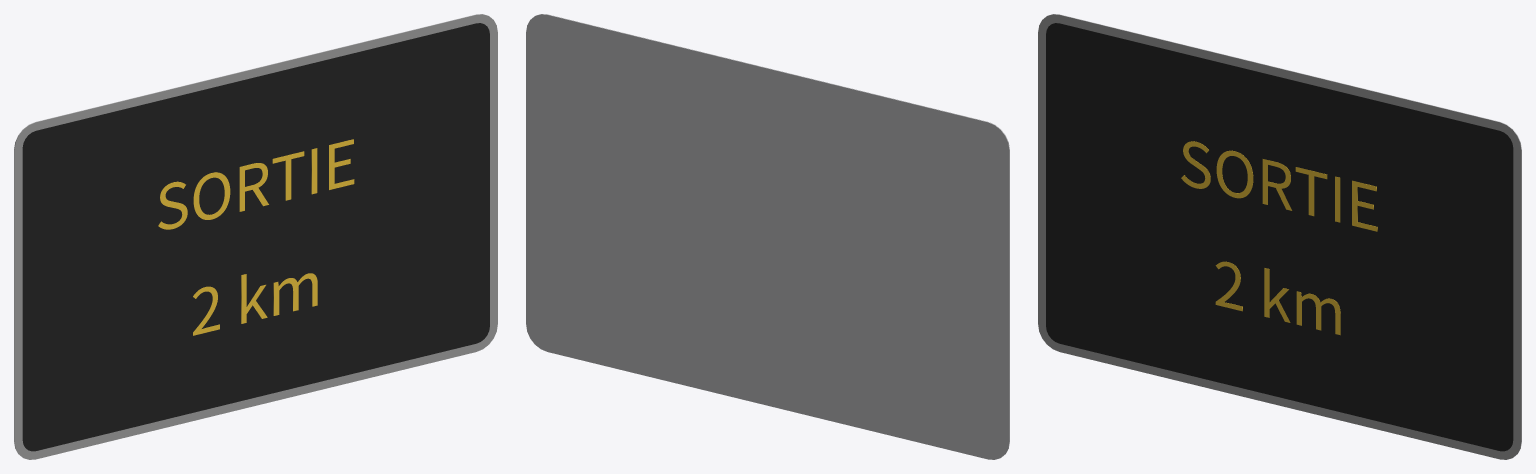
3 renders of one model, left to right at view 1: azimuth 30°, elevation 25°; view 2: azimuth 150°, elevation 25°; view 3: azimuth 330°, elevation 25°, orthographic.
Parts seen in each view (by area): view 1: X1b_r01, X1b_r00, X1b_txt02, X1b_txt03, X1b_dos; view 2: X1b_dos, X1b_r00; view 3: X1b_r01, X1b_r00, X1b_txt02, X1b_txt03, X1b_dos.
Part boxes in pixels (bbox=[...]): X1b_r01: bbox=[22, 23, 489, 451]; X1b_r00: bbox=[14, 14, 497, 459]; X1b_txt02: bbox=[158, 139, 354, 229]; X1b_txt03: bbox=[193, 273, 317, 335]; X1b_dos: bbox=[14, 14, 487, 452]; X1b_dos: bbox=[526, 14, 1009, 459]; X1b_r00: bbox=[542, 14, 1009, 448]; X1b_r01: bbox=[1046, 23, 1513, 451]; X1b_r00: bbox=[1038, 14, 1521, 459]; X1b_txt02: bbox=[1181, 141, 1377, 231]; X1b_txt03: bbox=[1215, 261, 1340, 335]; X1b_dos: bbox=[1048, 14, 1521, 452].
Bounding box in the file's own units: 0.9 × 0.6 × 0.0029.
